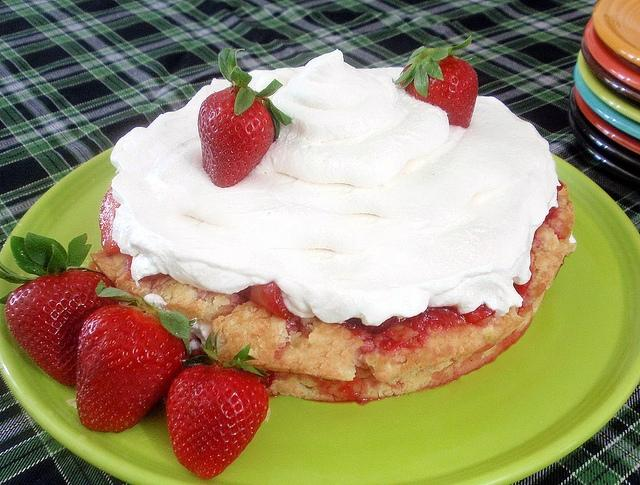strawberry: (76, 280, 198, 434), (1, 231, 119, 386), (166, 328, 270, 480), (198, 47, 292, 188), (394, 34, 478, 128), (98, 182, 120, 256), (250, 280, 289, 320)
